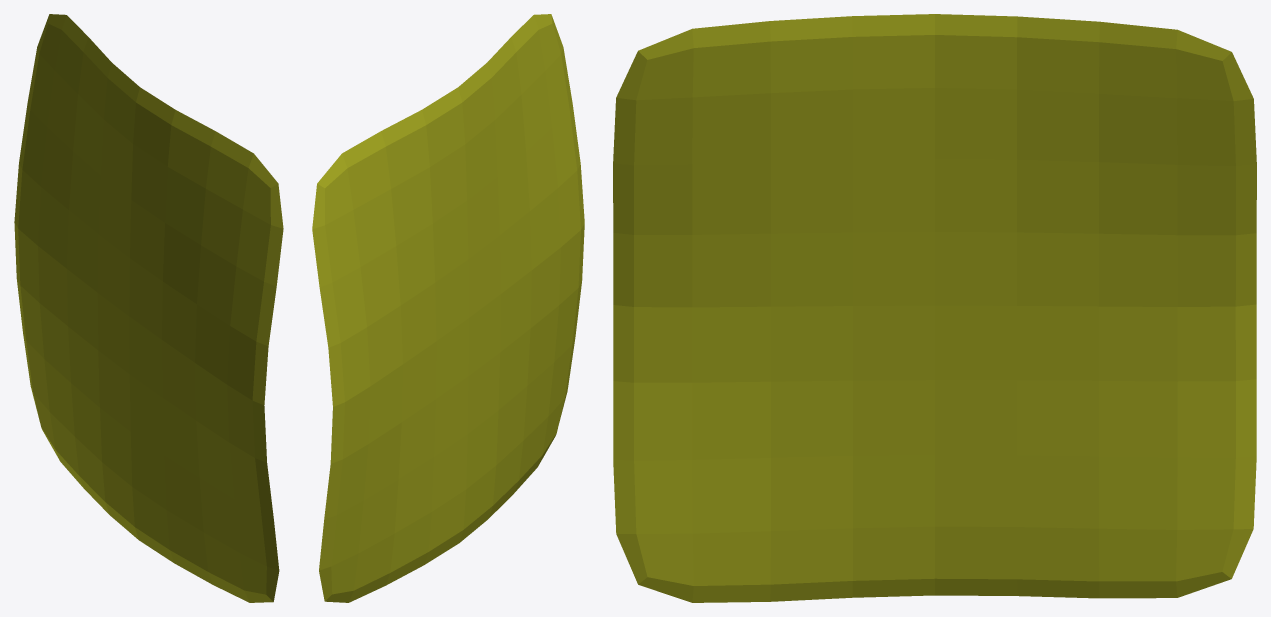
File: AmericanCheese.fbx
3 renders of one model, left to right at view 1: azimuth 30°, elevation 25°; view 2: azimuth 150°, elevation 25°; view 3: azimuth 270°, elevation 25°, orthographic. The views are drawn at different scales.
Visible parts, largest first — view 1: Plane; view 2: Plane; view 3: Plane.
Boxes of the visible parts, x1,y1,x2,y2 form: Plane: [14, 14, 283, 602]; Plane: [312, 14, 584, 602]; Plane: [613, 14, 1256, 602].
Bounding box in the file's own units: 16.5 × 196 × 196.
